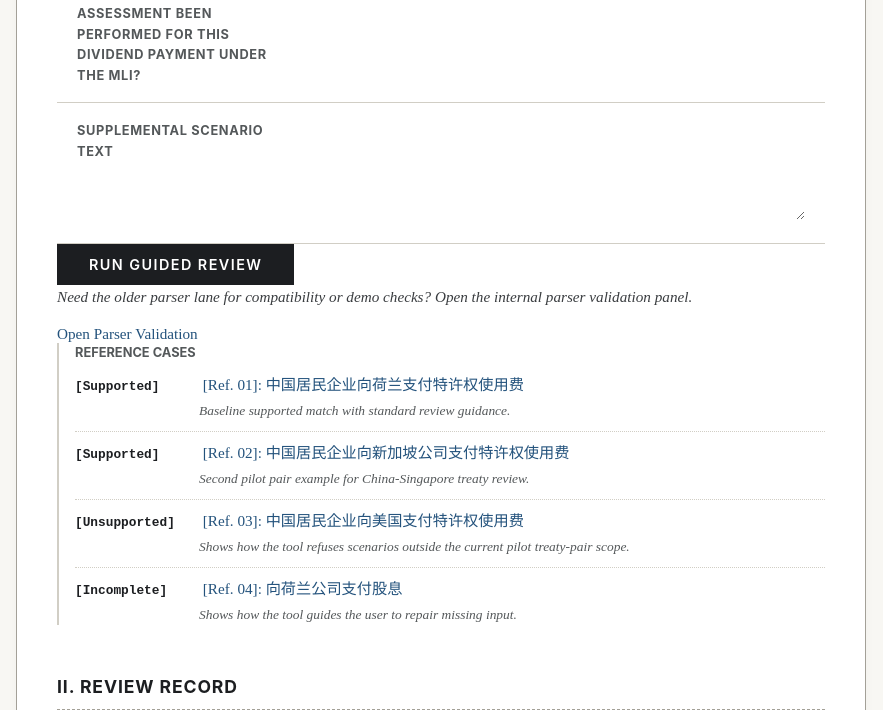
Test: shows a bridge note when business wording is normalized into a treaty category
(page scrolled)
Step 1. Click the button "Open Parser Validation" → (127, 334), box [57,325,198,343]
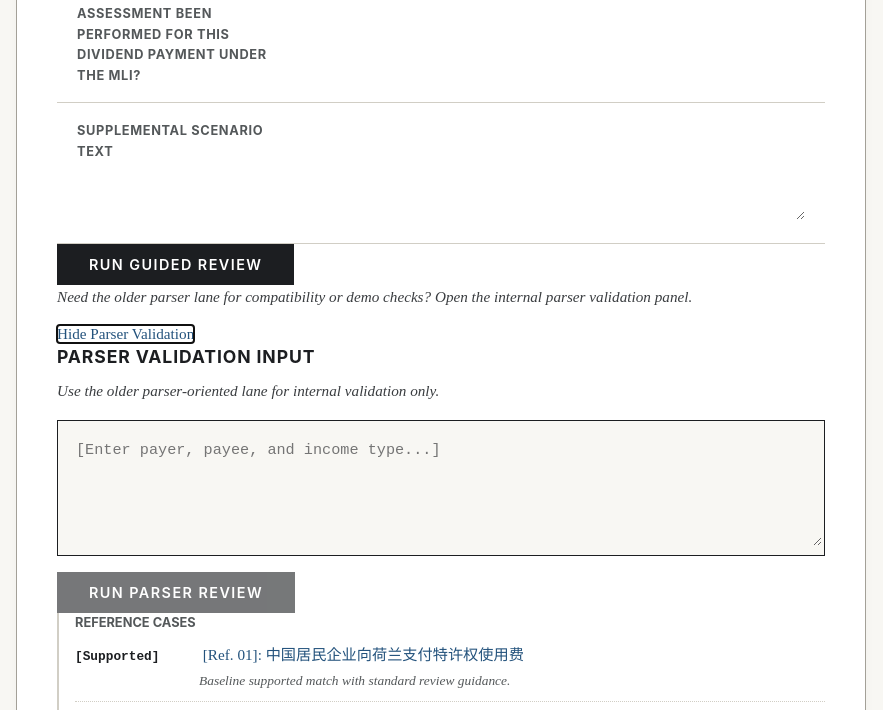
Step 2. Type "向荷兰公司支付软件许可费" into the text box named "cross-border scenario" → (441, 484), box [60,423,822,546]
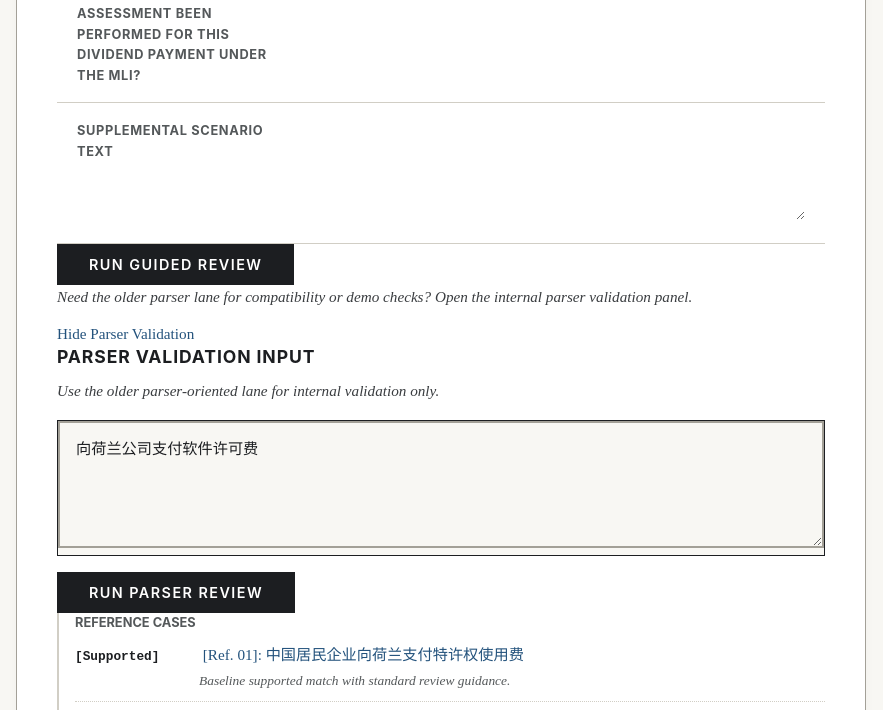
Step 3. Click the button "Run Parser Review" → (176, 593), box [57,572,295,613]
(page scrolled)
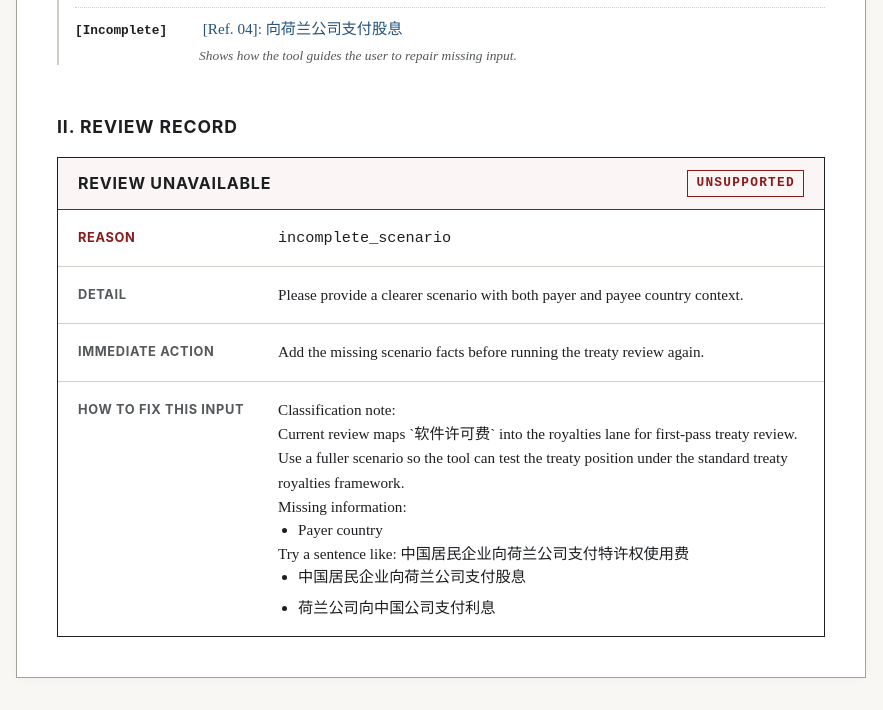
Expected: the heading "REVIEW UNAVAILABLE" is shown, [78,171,271,196]
Expected: the text "Classification note:" is shown, [278,401,396,418]
Expected: the text "maps `软件许可费` into the royalties lane" is shown, [278,425,798,491]
